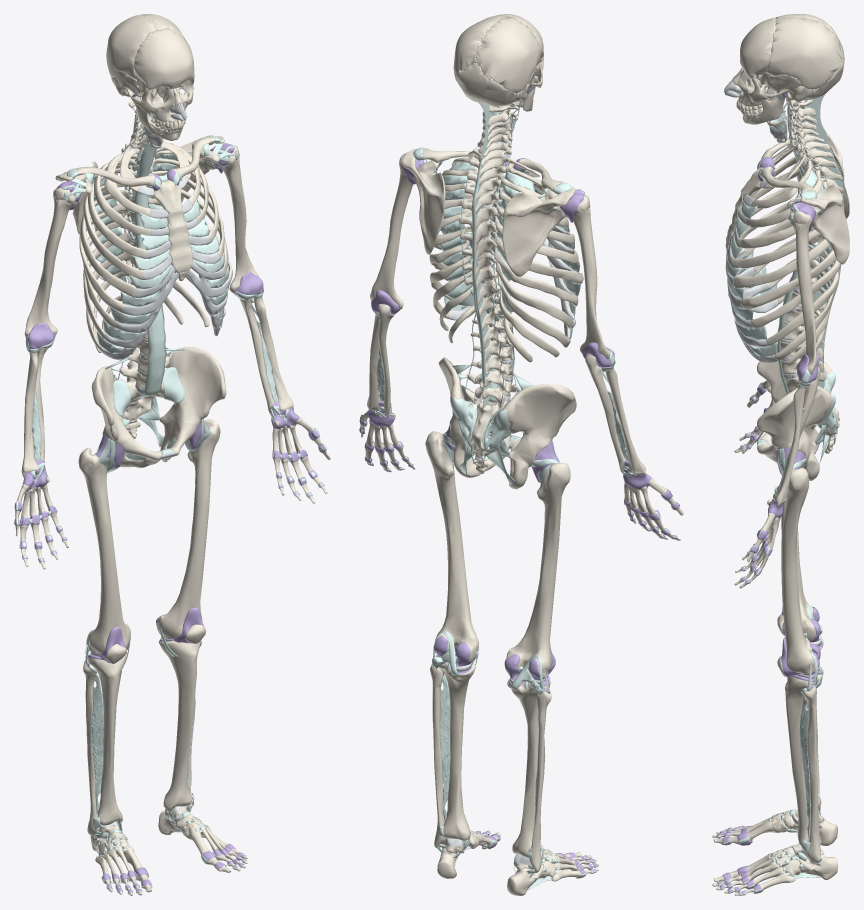
File: skeleton.glb
The picture shows the model from 3 angles, left to right: view 1: azimuth 30°, elevation 25°; view 2: azimuth 150°, elevation 25°; view 3: azimuth 270°, elevation 25°; orthographic projection. The views are drawn at different scales.
Visible parts, largest first — view 1: Femur R, Hip bone L, Femur L, Tibia L, Frontal bone, Tibia R, External intercostal membrane R, Anterior longitudinal ligament, Hip bone R, Humerus R, Parietal bone R, Humerus L (+19 smaller); view 2: Femur L, Femur R, Hip bone R, Scapula R, Parietal bone R, Tibia L, Tibia R, Scapula L, Humerus R, Humerus L, Internal intercostal membrane L, Hip bone L (+21 smaller); view 3: Parietal bone L, Femur L, Hip bone L, Tibia L, Humerus L, Scapula L, Fibula L, External intercostal membrane L, Frontal bone, Hip bone R, Radius L, Seventh rib L (+28 smaller).
Boxes of the visible parts, x1,y1,x2,y2 form: Femur R: (78,447,130,654); Hip bone L: (159,347,226,462); Femur L: (156,419,220,638); Tibia L: (158,640,200,811); Frontal bone: (134,28,194,91); Tibia R: (88,652,127,825); External intercostal membrane R: (96,212,171,353); Anterior longitudinal ligament: (134,113,165,397); Hip bone R: (91,366,161,467); Humerus R: (24,188,76,337); Parietal bone R: (106,15,158,79); Humerus L: (223,145,258,292); Femur L: (425,431,478,661); Femur R: (506,462,570,677); Hip bone R: (502,384,576,489); Scapula R: (502,187,575,276); Parietal bone R: (476,16,541,93); Tibia L: (439,659,475,840); Tibia R: (507,679,550,856); Scapula L: (401,149,445,254); Humerus R: (573,195,610,359); Humerus L: (370,153,413,311); Internal intercostal membrane L: (440,162,474,306); Hip bone L: (438,357,509,477); Parietal bone L: (765,17,842,89); Femur L: (781,467,817,673); Hip bone L: (757,386,832,480); Tibia L: (785,673,821,845); Humerus L: (788,209,817,374); Scapula L: (787,183,849,264); Fibula L: (803,686,820,863); External intercostal membrane L: (726,202,777,356); Frontal bone: (740,17,776,78); Hip bone R: (757,349,832,453); Radius L: (773,383,809,506); Seventh rib L: (741,249,836,308).
Bounding box in the file's own units: 0.6693 × 1.7 × 0.2501.
